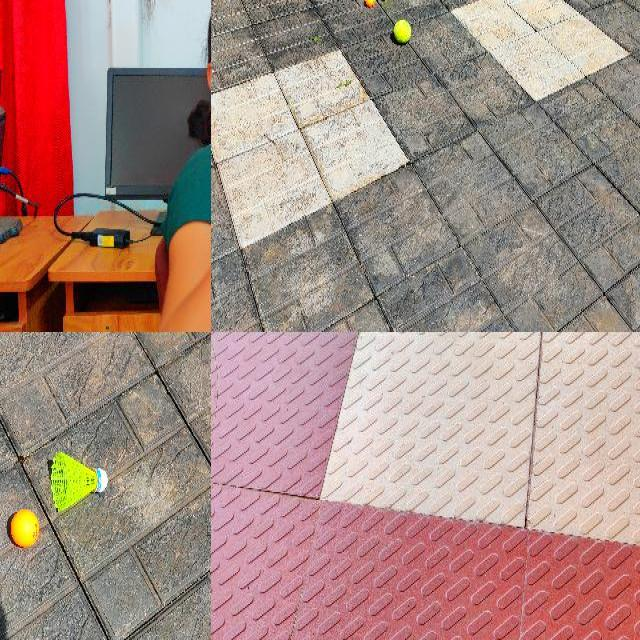ping-pong-ball: (10, 509, 38, 547), (364, 0, 374, 8)
